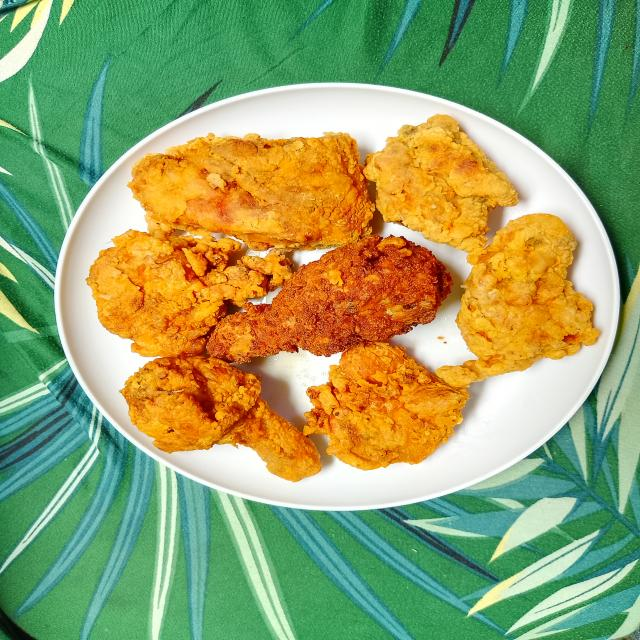Chicken -Fried Chicken-: (211, 245, 435, 365), (134, 131, 370, 242), (118, 356, 314, 486), (457, 214, 602, 383), (85, 233, 273, 351), (309, 344, 463, 472), (377, 121, 517, 245)
